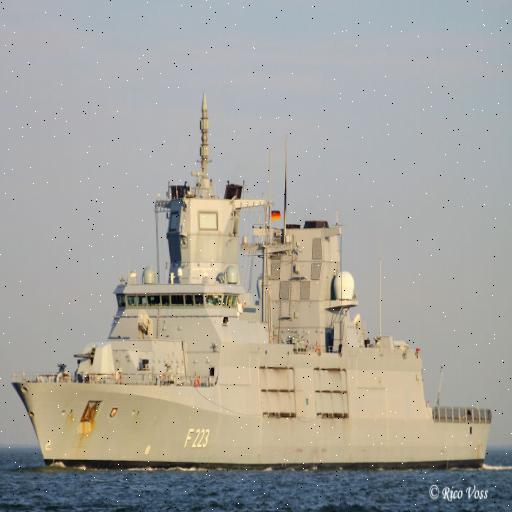Fragata: (8, 86, 496, 476)
